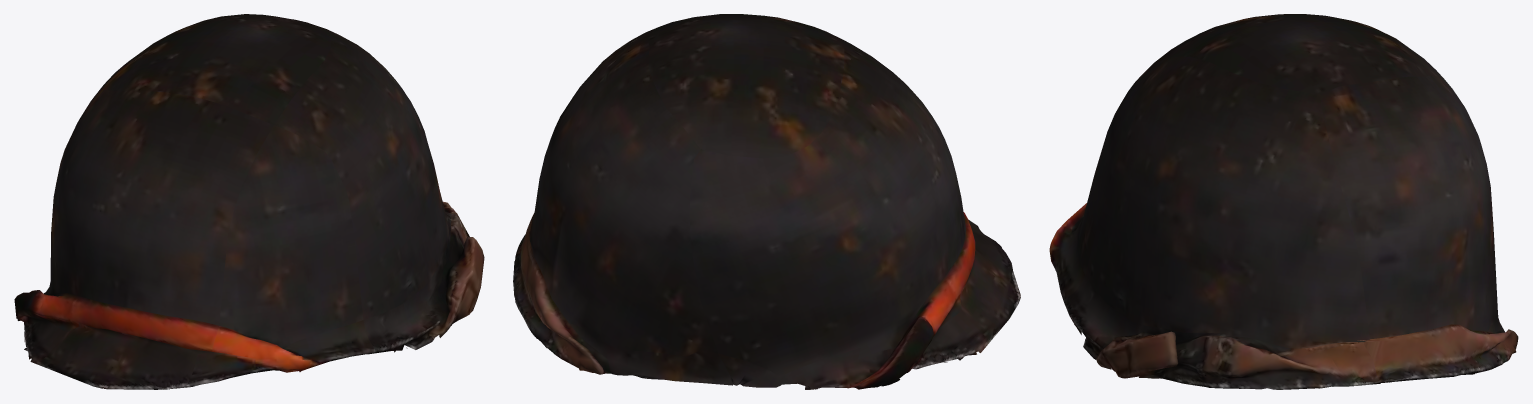
The model's file is wear-m1.glb.
3 views of the same model, side by side, from view 1: azimuth 30°, elevation 25°; view 2: azimuth 150°, elevation 25°; view 3: azimuth 270°, elevation 25° (orthographic). The views are drawn at different scales.
Parts seen in each view (by area): view 1: scan-0; view 2: scan-0; view 3: scan-0.
Boxes of the visible parts, x1,y1,x2,y2 form: scan-0: (14, 14, 484, 389); scan-0: (513, 14, 1020, 389); scan-0: (1049, 14, 1518, 389).
Bounding box in the file's own units: 21.01 × 12.77 × 18.69.
1 material, 1 textured.
